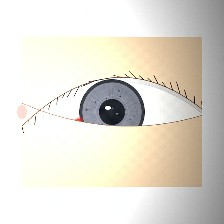hemorrhage_spot: (49, 98, 121, 156)
